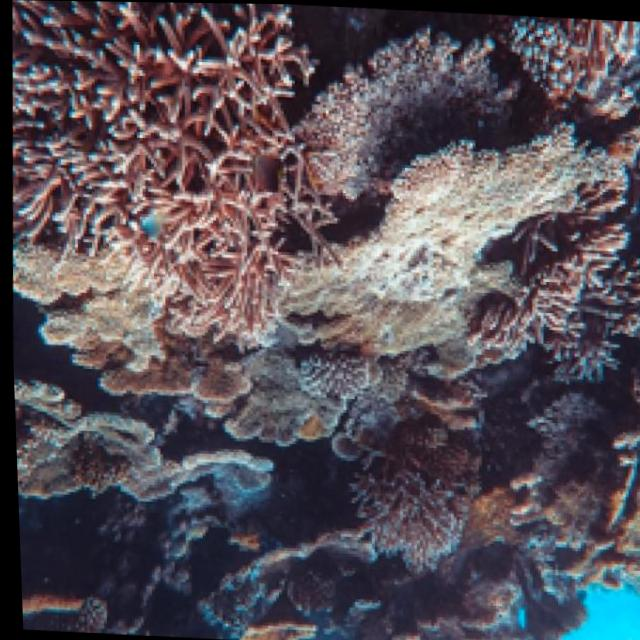Dead Coral: (241, 30, 607, 476), (251, 19, 537, 224), (429, 160, 640, 399), (181, 547, 585, 640), (503, 387, 640, 605), (321, 450, 486, 589), (260, 324, 391, 441), (40, 431, 140, 501)
